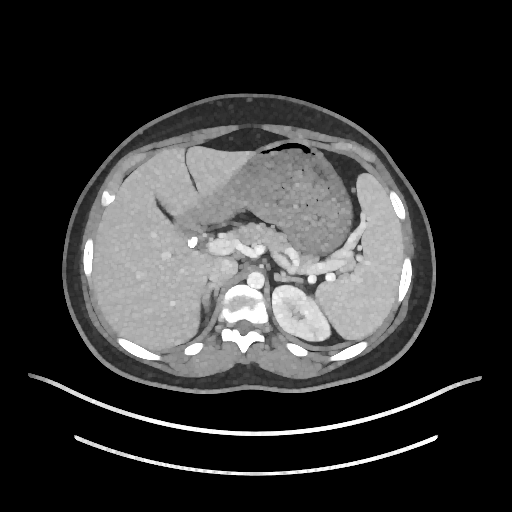Lesion: (308, 328, 322, 340)
